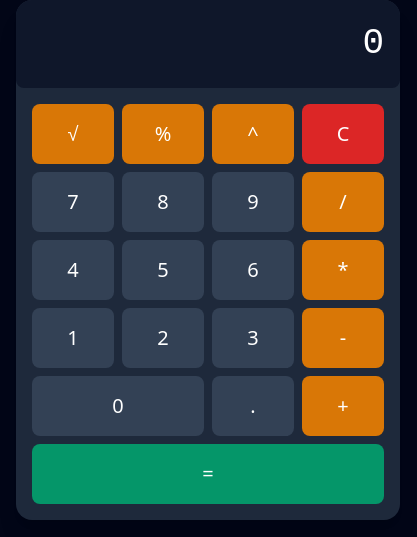
it: Calculator › replaces the previous answer when a new digit is pressed
This screenshot has width=417, height=537.
Click the button "1": (73, 338) [32,308,114,368]
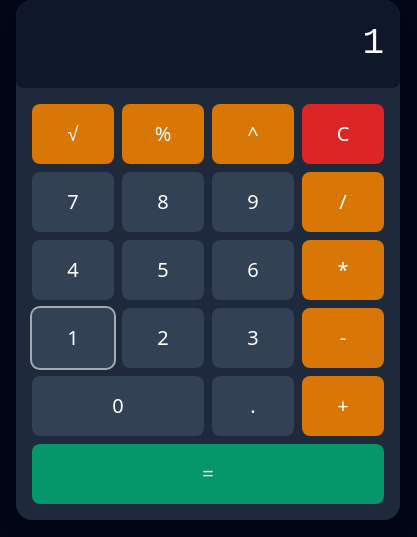
Click the button "2": (163, 338) [122,308,204,368]
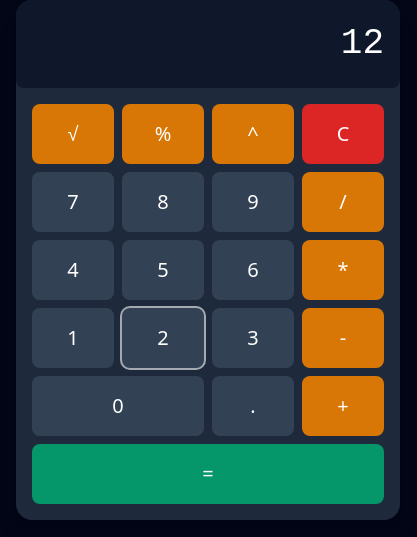
Click the button "+": (343, 406) [302,376,384,436]
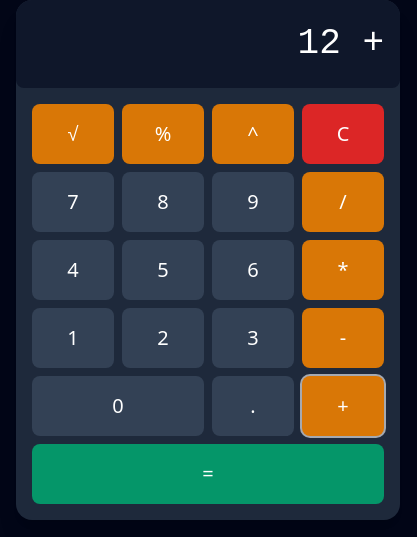
Click the button "5": (163, 270) [122,240,204,300]
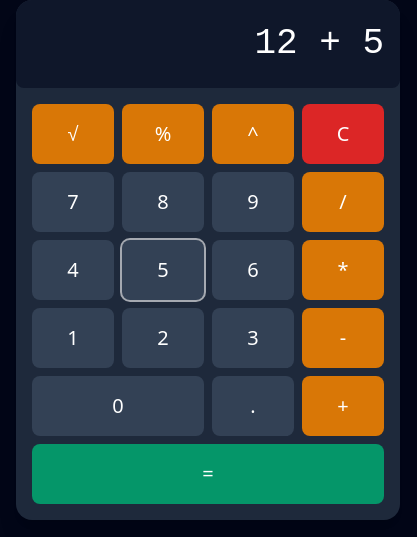
Click the button "=": (208, 474) [32,444,384,504]
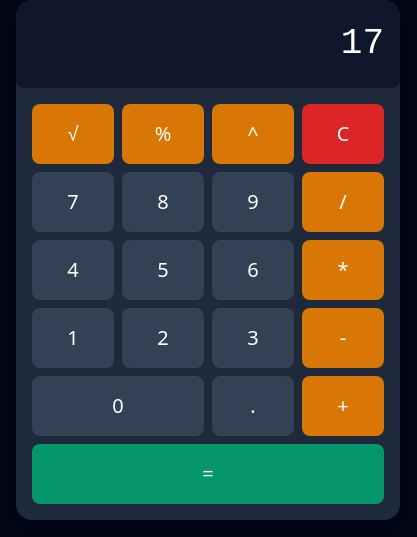
expect the text with test id "display" reads "17": met, box [341,23,384,64]
Click the button "3": (253, 338) [212,308,294,368]
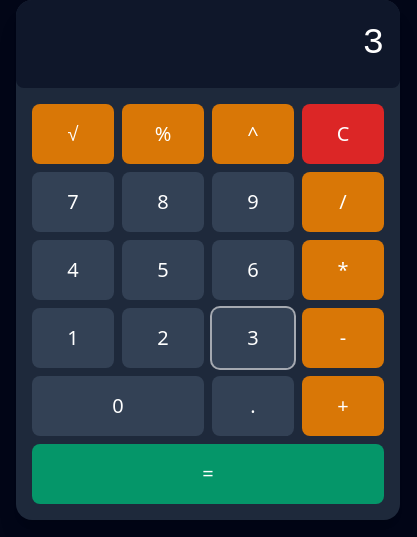
expect the text with test id "display" reads "3": met, box [362,23,384,64]
expect the text with test id "display" no longer shows "17": met, box [16,0,400,88]
